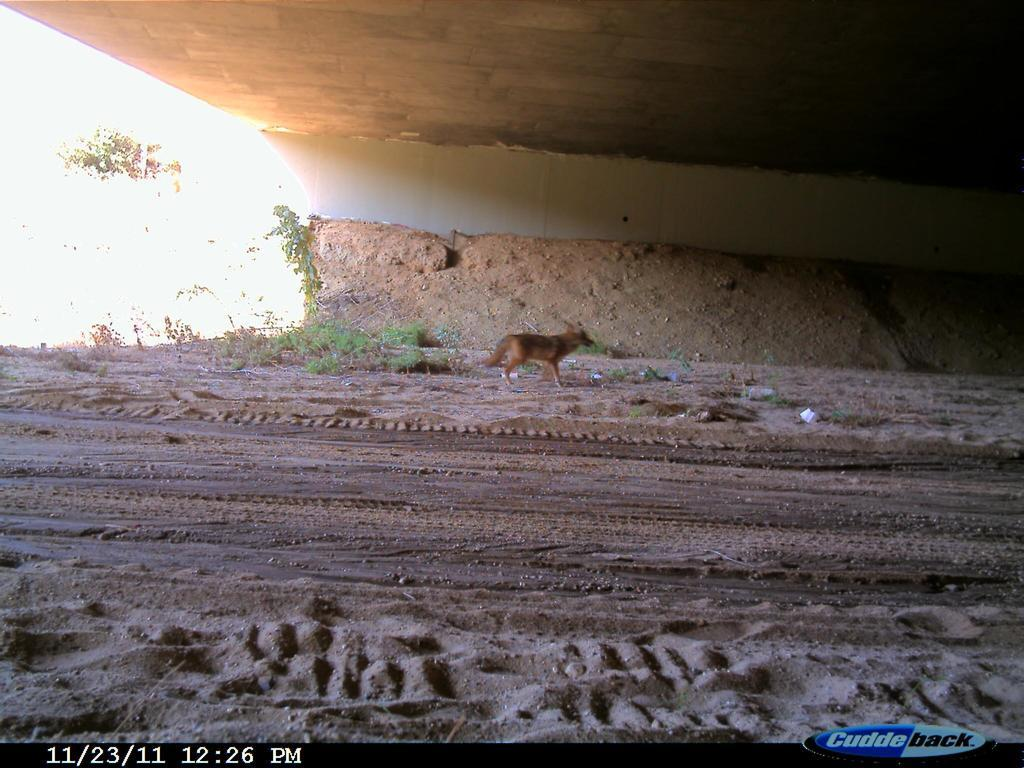coyote: (478, 309, 610, 409)
